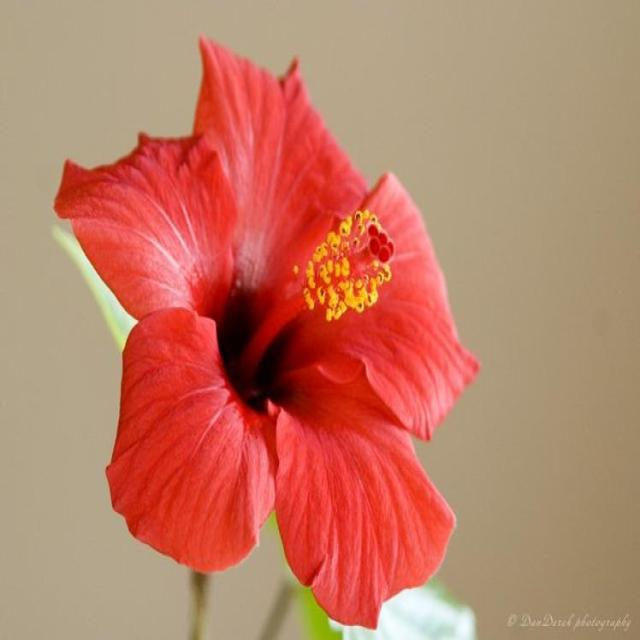hibiscus: (58, 48, 505, 640), (305, 272, 337, 336)
